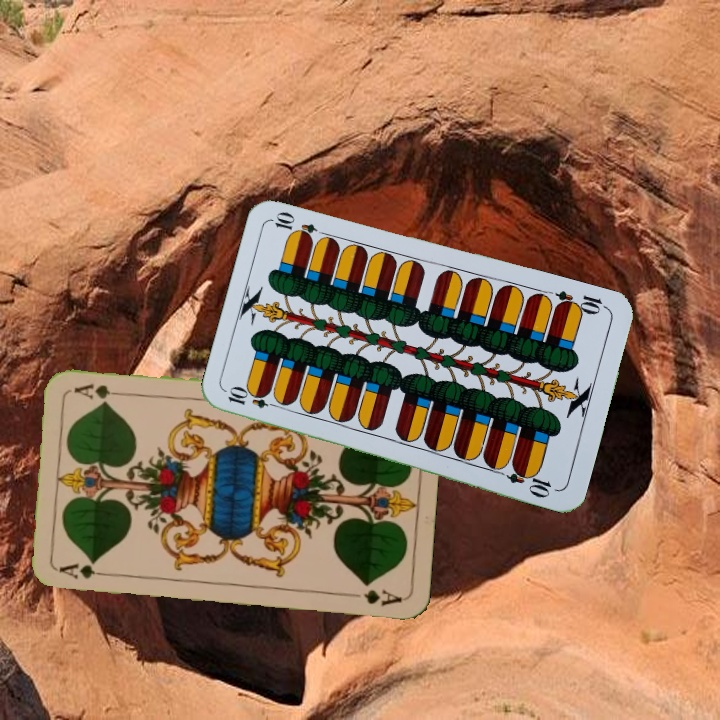E10: (551, 286, 610, 318), (224, 385, 283, 412)
GA: (55, 561, 115, 581)
